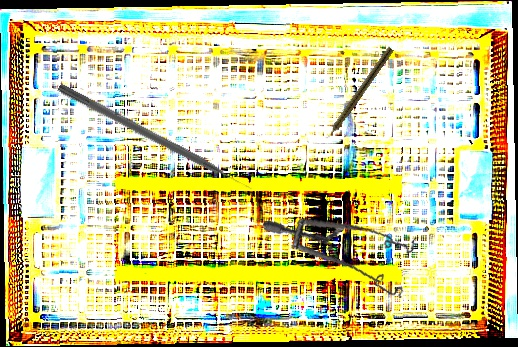Handpiece: (322, 45, 395, 142)
Pusher: (55, 82, 255, 196)
Speculum: (262, 195, 425, 320)
